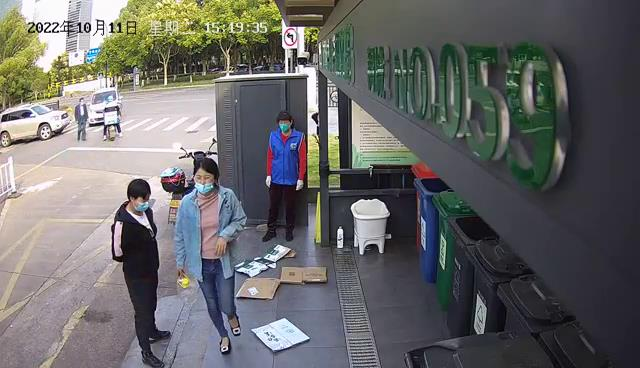person: (110, 178, 171, 368)
worker: (175, 157, 247, 355), (261, 110, 307, 241)
zhizhipin: (233, 243, 297, 278), (251, 316, 311, 352), (236, 276, 281, 300), (280, 265, 328, 284)
